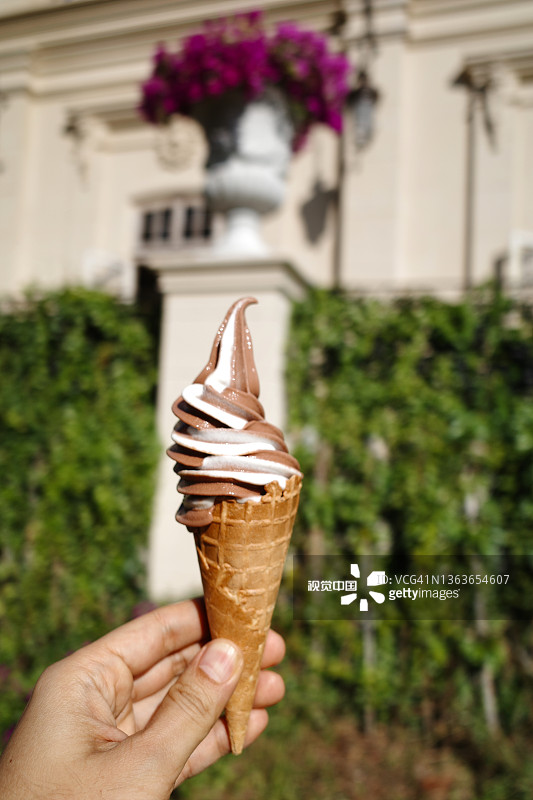no-phone: (1, 569, 308, 800)
